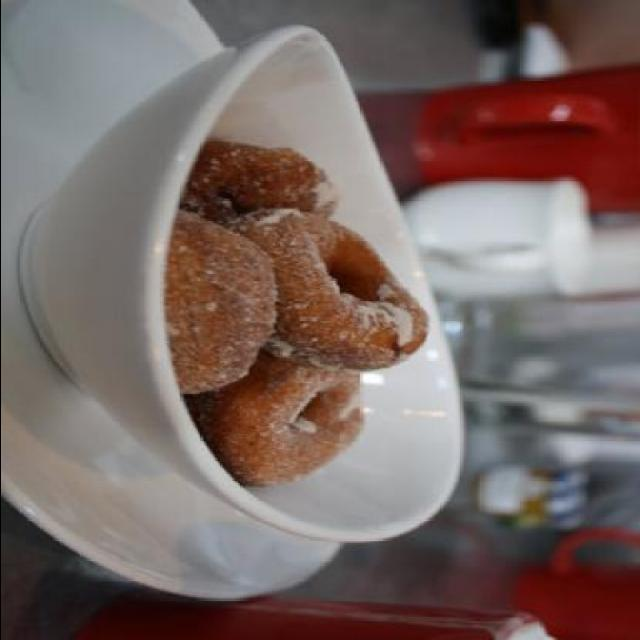Donuts: (144, 130, 430, 502)
